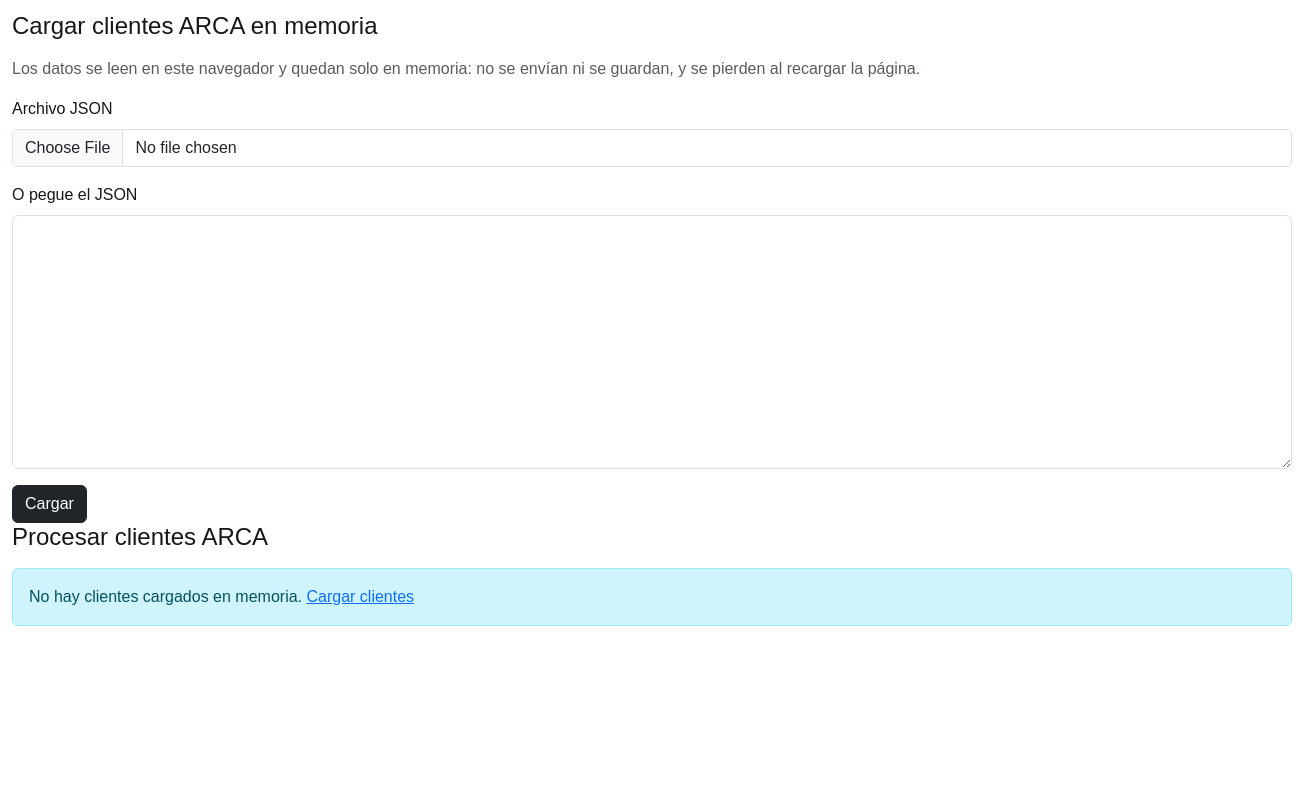
it: LoadClientsForm › asks for input when nothing was provided
This screenshot has width=1304, height=812.
Click the button "Cargar".
click(49, 504)  # box [12, 485, 87, 523]
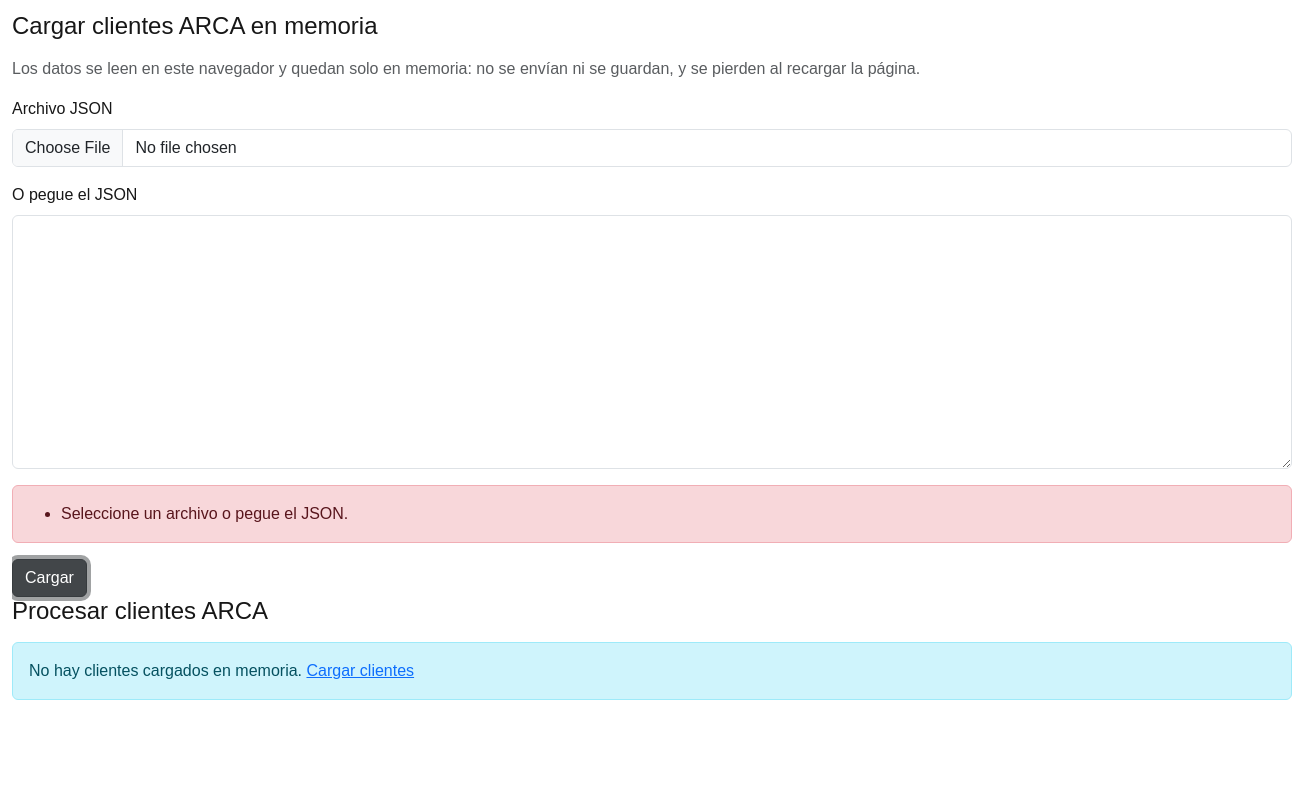
Expected: the message reads "Seleccione un archivo o pegue el JSON.", [61, 505, 348, 522]
